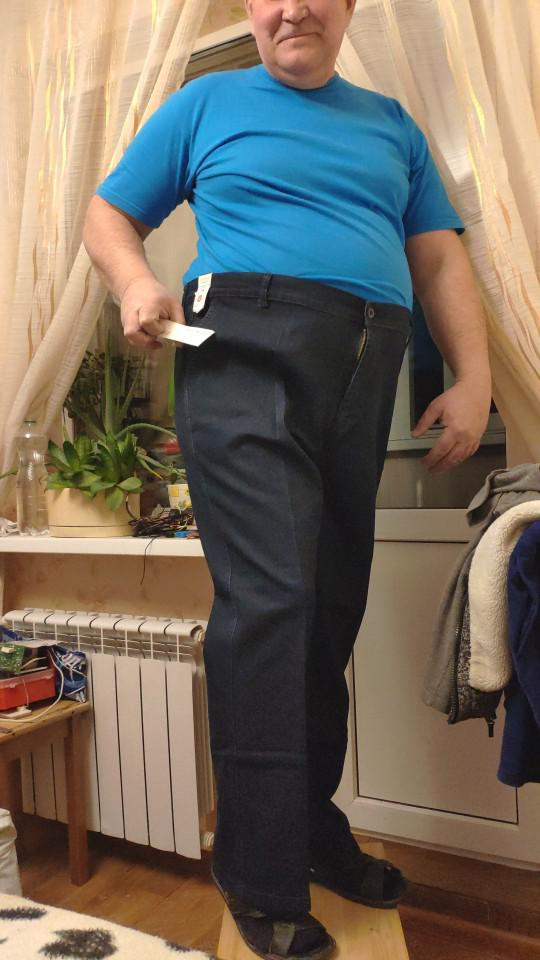jeans: (123, 280, 423, 886)
